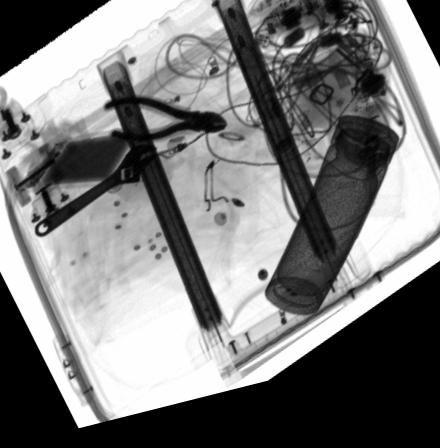Pliers: (103, 103, 228, 149)
Powerbank: (21, 143, 134, 190)
Wrench: (35, 151, 159, 240)
